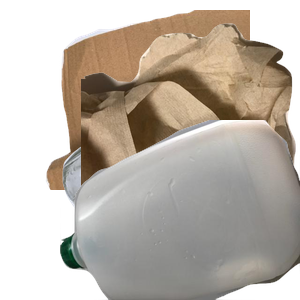cardboard: (43, 10, 283, 190)
glass: (60, 120, 300, 300)
plastic: (60, 120, 300, 300)
trash: (81, 21, 300, 201)
